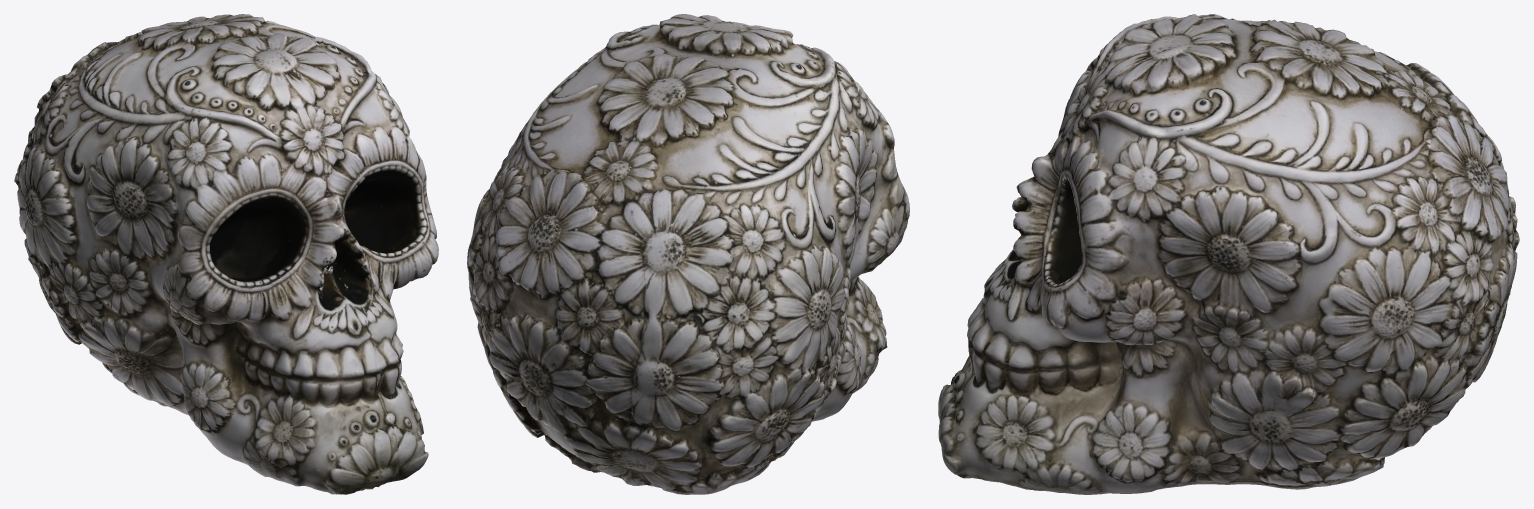
The model's file is sf-floral-skull-c50cad.glb.
3 renders of one model, left to right at view 1: azimuth 30°, elevation 25°; view 2: azimuth 150°, elevation 25°; view 3: azimuth 270°, elevation 25°, orthographic. The views are drawn at different scales.
Parts seen in each view (by area): view 1: Object_2; view 2: Object_2; view 3: Object_2.
Part boxes in pixels (bbox=[...]): Object_2: bbox=[14, 14, 438, 494]; Object_2: bbox=[467, 14, 909, 494]; Object_2: bbox=[938, 14, 1519, 494].
Size of the model in its own units: 1.91 by 2.15 by 2.69.
Materials: 1 (1 with a texture image).
